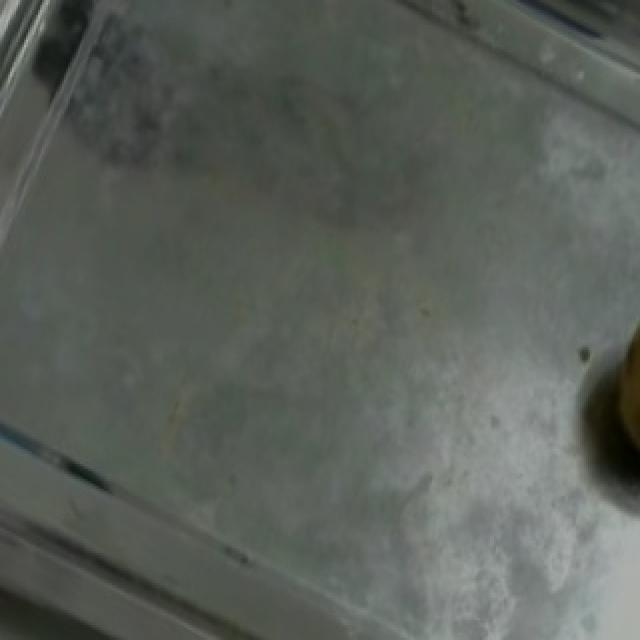Fruit: (586, 261, 640, 514)
